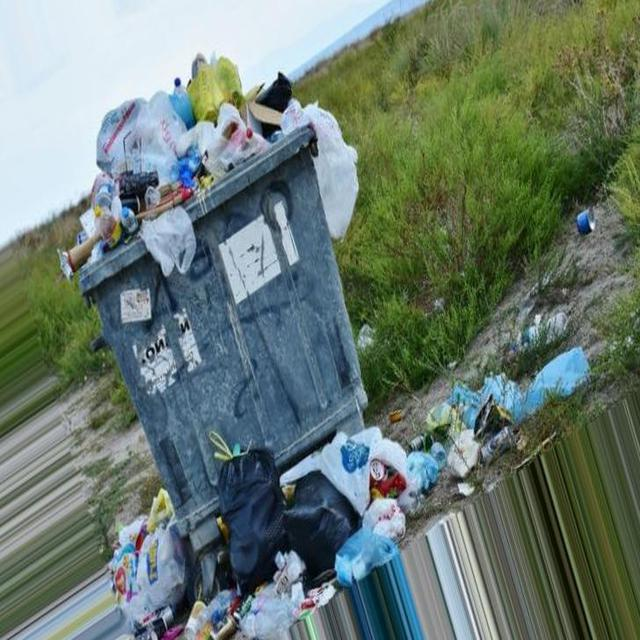garbage: (50, 42, 356, 247), (87, 463, 401, 628), (375, 370, 611, 487), (571, 202, 607, 233), (355, 319, 378, 348)
